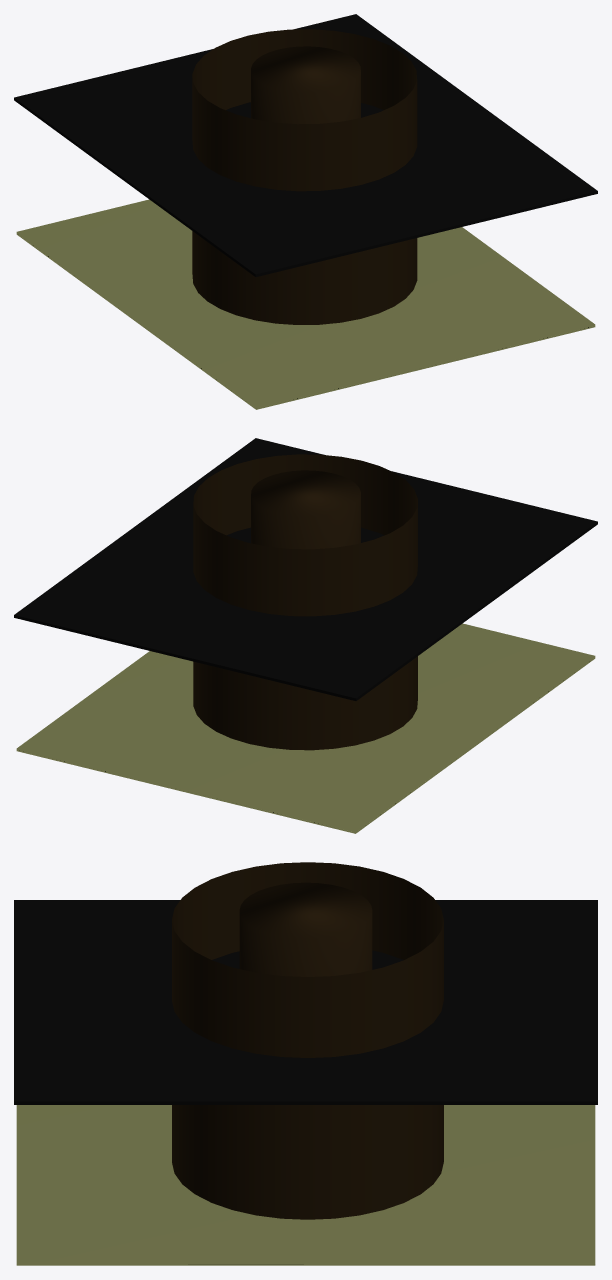
Rendered from otherUndergroundMusic.glb.
The picture shows the model from 3 angles, top to bottom: view 1: azimuth 30°, elevation 25°; view 2: azimuth 150°, elevation 25°; view 3: azimuth 270°, elevation 25°; orthographic projection. The views are drawn at different scales.
Visible parts, largest first — view 1: top, bottom, Cylinder.001, Cylinder; view 2: top, bottom, Cylinder.001, Cylinder; view 3: top, bottom, Cylinder.001, Cylinder.
Boxes of the visible parts, x1,y1,x2,y2 form: top: (14, 14, 597, 276); bottom: (16, 199, 595, 409); Cylinder.001: (192, 29, 417, 324); Cylinder: (251, 46, 360, 124); top: (14, 438, 597, 700); bottom: (16, 623, 595, 833); Cylinder.001: (193, 454, 417, 750); Cylinder: (251, 470, 360, 549); top: (14, 900, 597, 1104); bottom: (16, 1105, 595, 1265); Cylinder.001: (172, 862, 443, 1219); Cylinder: (239, 882, 372, 976).
Bounding box in the file's own units: 156 × 110 × 191.
